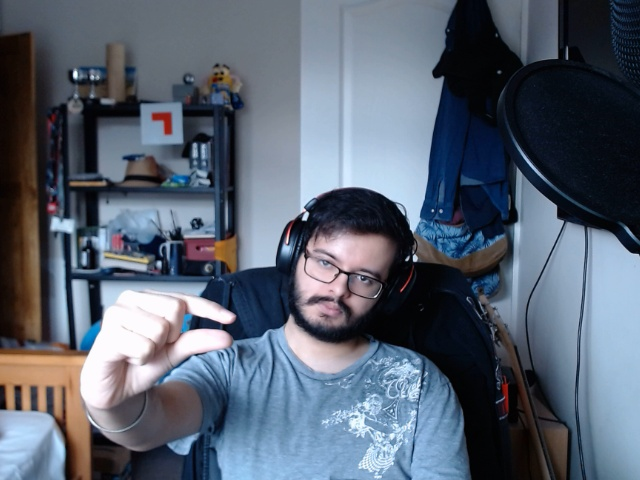Small: (68, 276, 248, 412)
